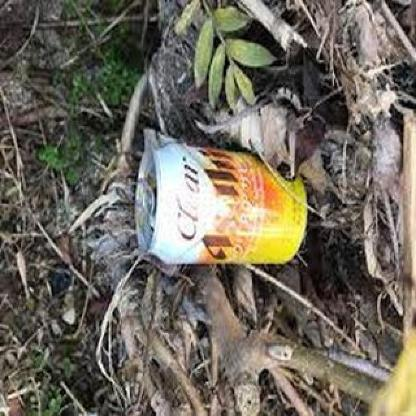Can: (133, 136, 307, 262)
